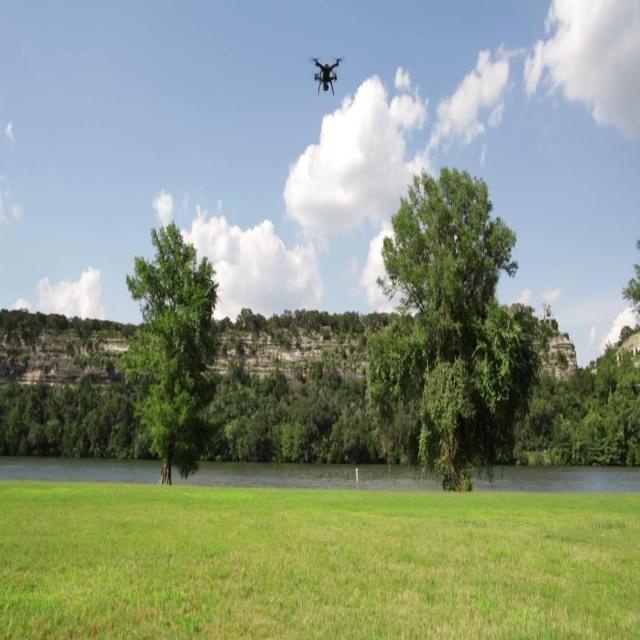drone: (311, 55, 341, 100)
